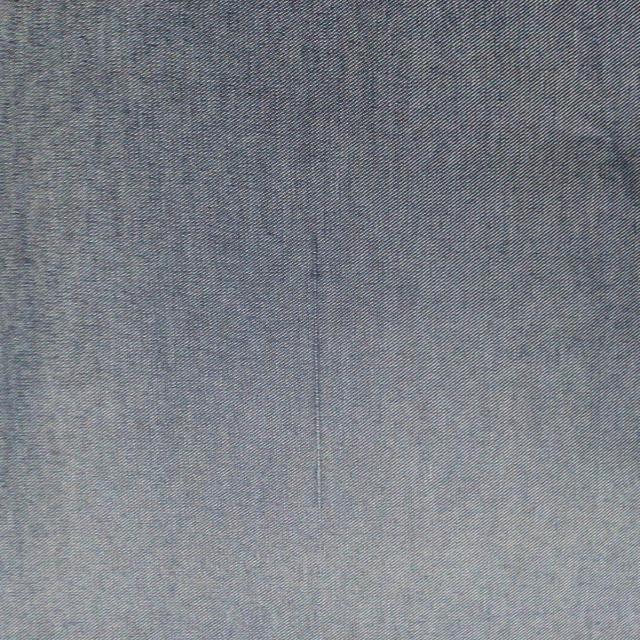Line: (313, 222, 327, 514)
